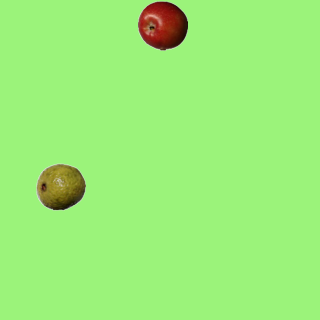Apple Braeburn: (137, 0, 187, 50)
Guava: (35, 161, 85, 211)
